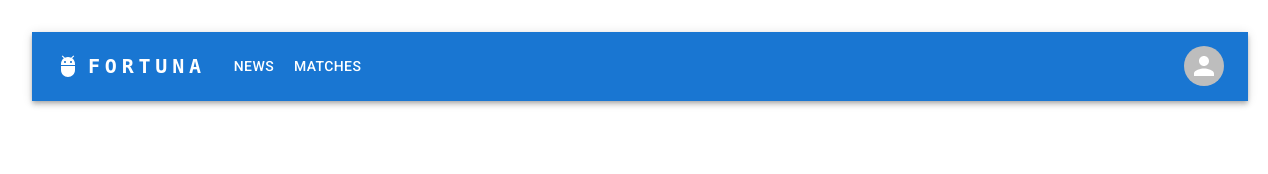
Scenario: Navbar › Navigation Integration › should open and close profile menu when clicking avatar and then outside
Click the button named "Open Profile Settings" at (1204, 66), box [1184,46,1224,86]
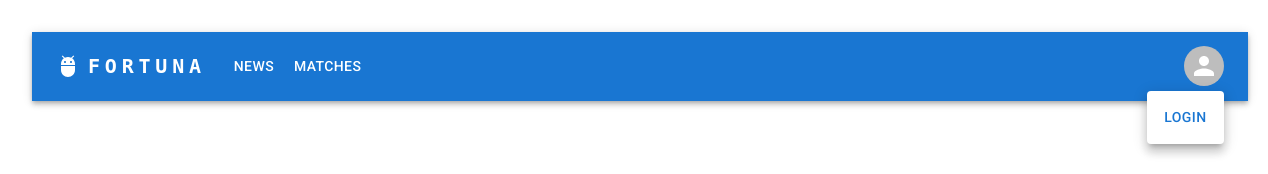
Expected: the button "Login" is shown, [1153,99,1217,136]
Press Escape
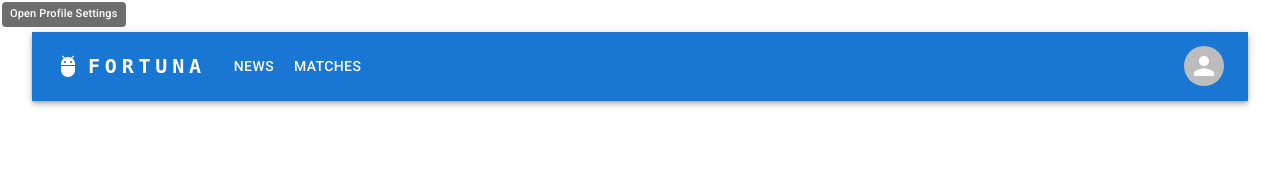
Expected: the button named "Open Profile Settings" is shown, [1184,46,1224,86]
Expected: the button "Login" is gone
